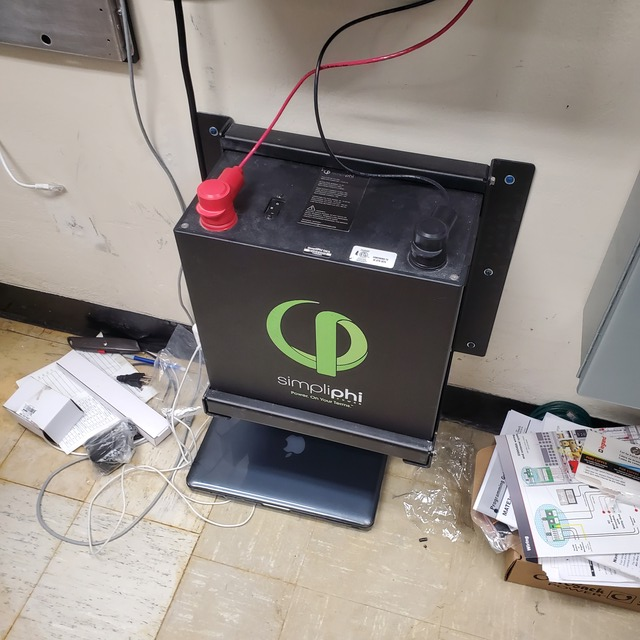battery: (175, 123, 492, 470)
